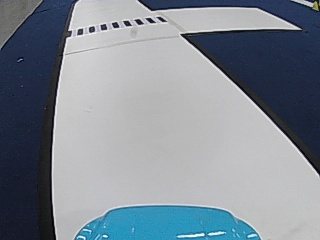CrossWalk: (70, 15, 167, 37)
